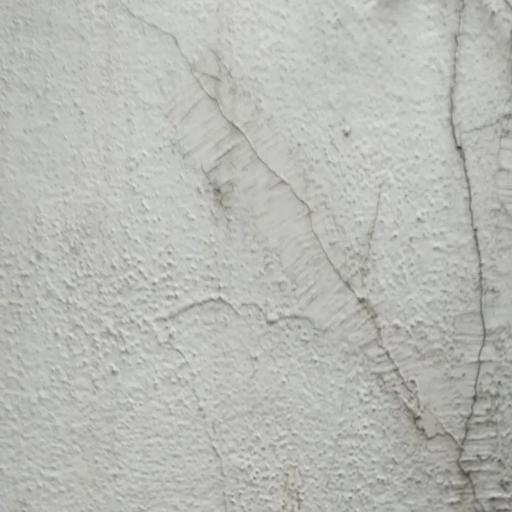minor_crack: (116, 3, 499, 512)
